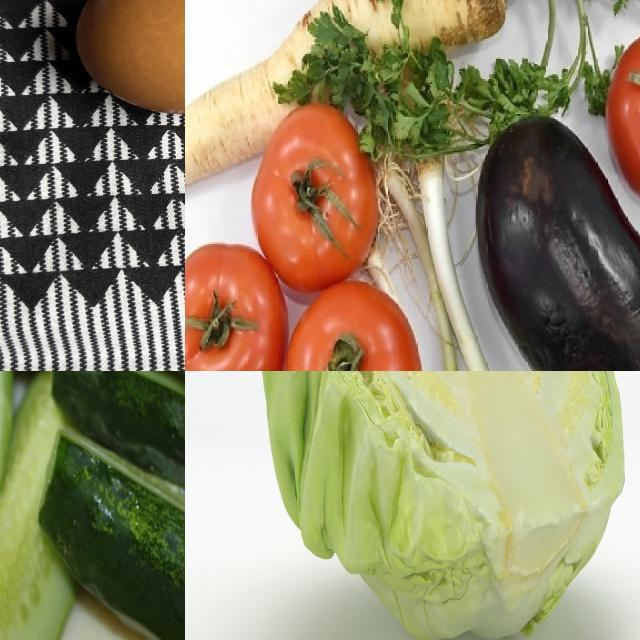cabbage: (258, 372, 629, 640)
cucumber: (42, 441, 186, 640), (47, 372, 186, 551)
egg: (71, 1, 186, 116)
eggplant: (480, 115, 640, 372)
tomato: (258, 94, 372, 268), (284, 278, 428, 372), (186, 242, 277, 372), (615, 31, 640, 205)
